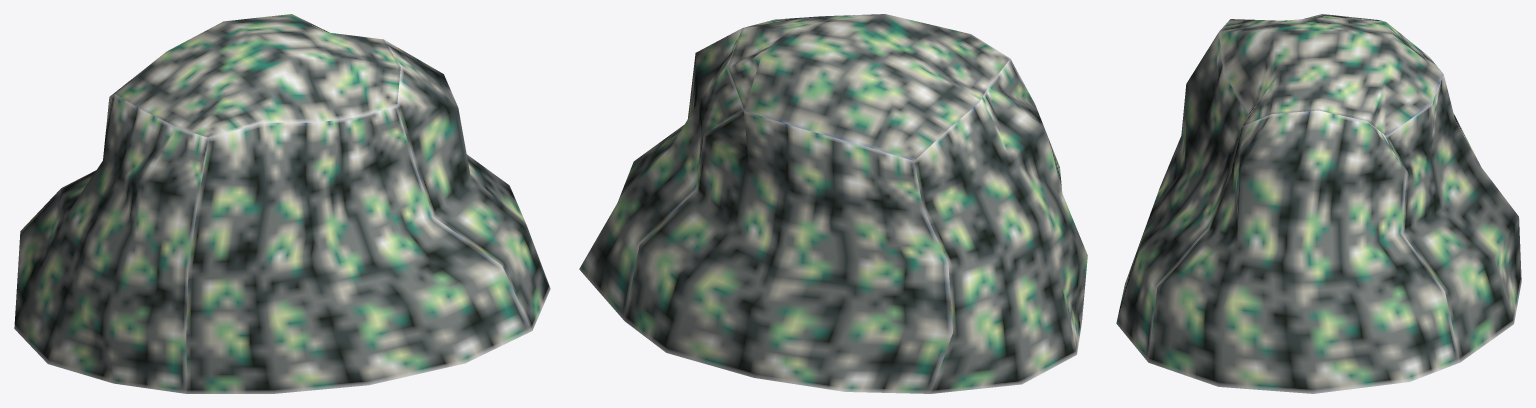
Rendered from large_mossy_Rock.fbx.
3 renders of one model, left to right at view 1: azimuth 30°, elevation 25°; view 2: azimuth 150°, elevation 25°; view 3: azimuth 270°, elevation 25°, orthographic. The views are drawn at different scales.
Visible parts, largest first — view 1: large_mossy_Rock; view 2: large_mossy_Rock; view 3: large_mossy_Rock.
Boxes of the visible parts, bbox=[...] form: large_mossy_Rock: bbox=[14, 14, 550, 393]; large_mossy_Rock: bbox=[579, 14, 1087, 393]; large_mossy_Rock: bbox=[1116, 14, 1521, 393].
Bounding box in the file's own units: 3.45 × 1.95 × 2.78.
